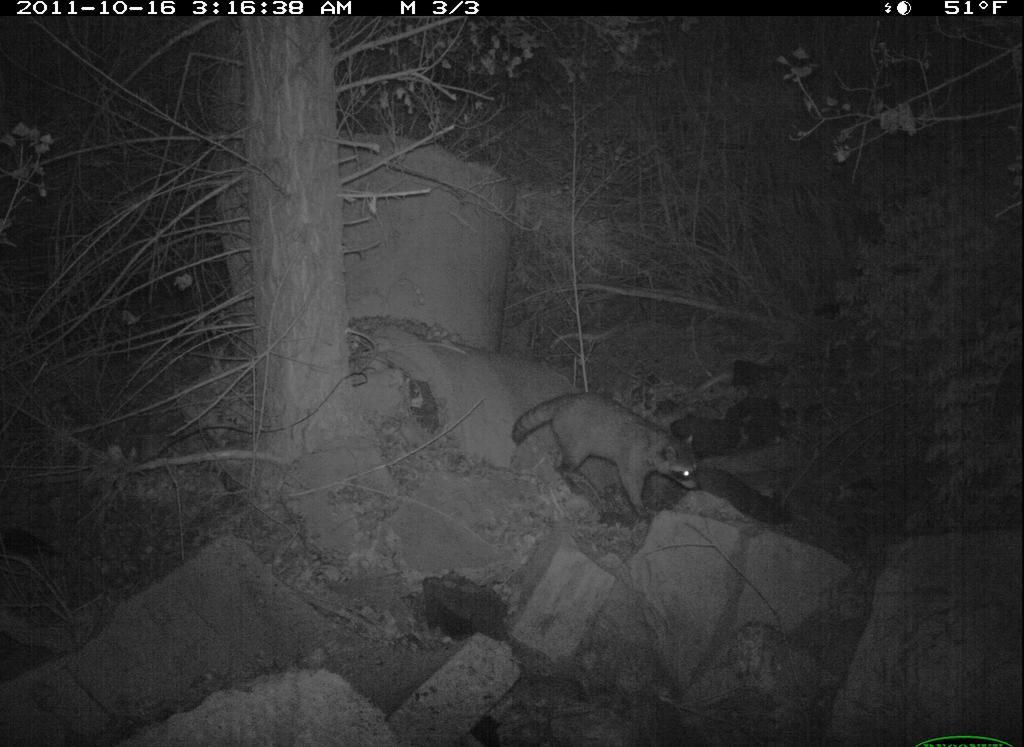raccoon: (506, 387, 720, 520)
